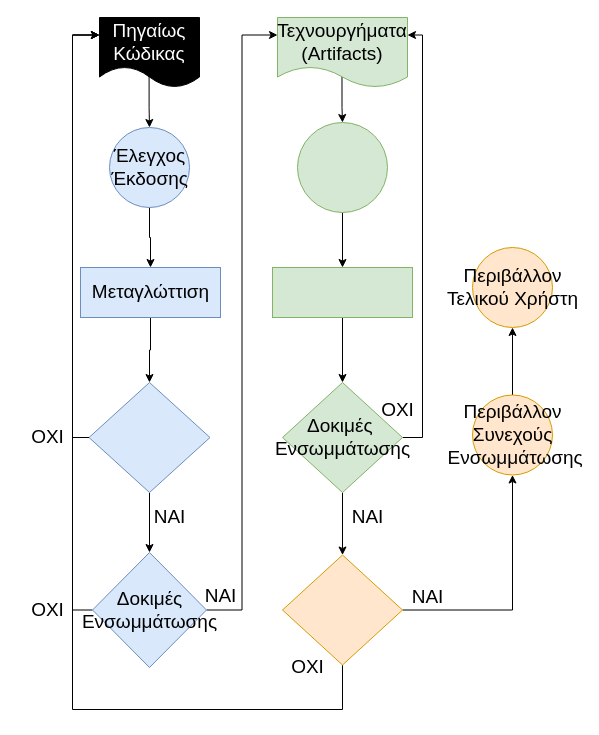
Image size: 599x735. Some labels were removed from this diagram. The shapes that lost their labels are listed below. From the top down, each one's centre as x and y in pixels, then its label:
At point 342,167: "Αποθετήριο Τεχνουργημάτων".
At point 342,292: "Αποστολή (Deployment)".
At point 149,437: "Δοκιμές Μονάδας (Unit Testing)".
At point 342,609: "Δοκιμές από άκρη-σε-άκρη".
